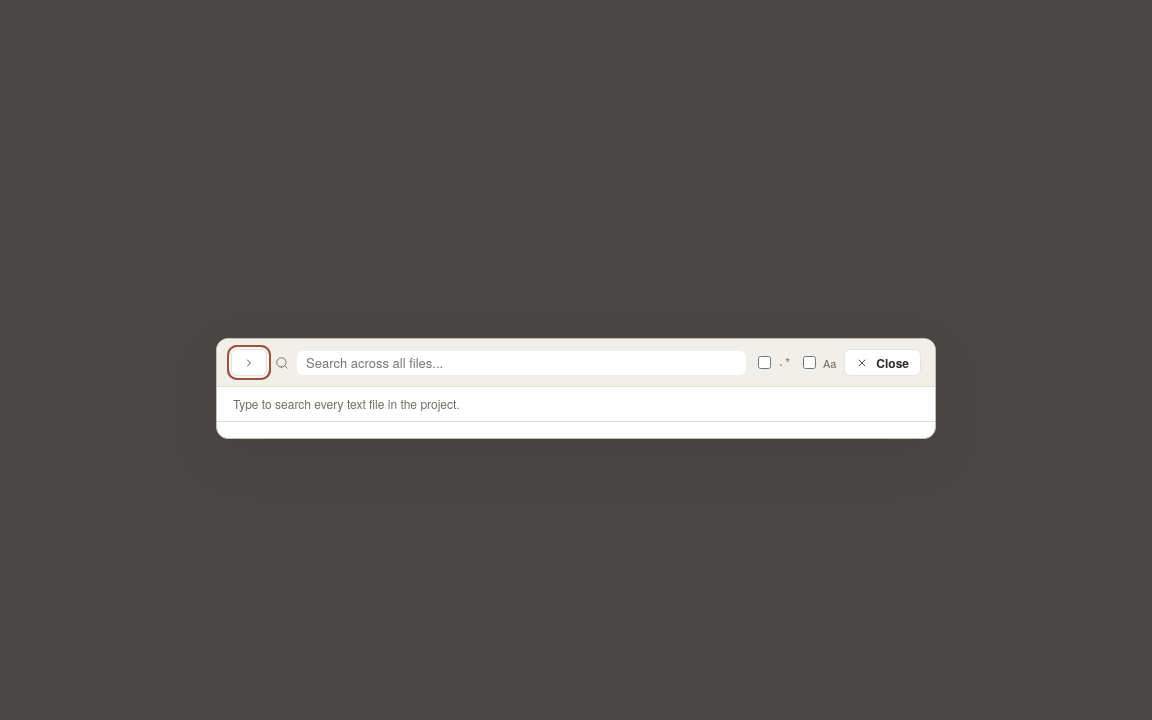
Test case: <FindInFilesPanel /> › can toggle match case and regex mode
Type "world" into the field with placeholder "Search across all files...".
click(521, 363); type("world")  # box [297,351,746,374]
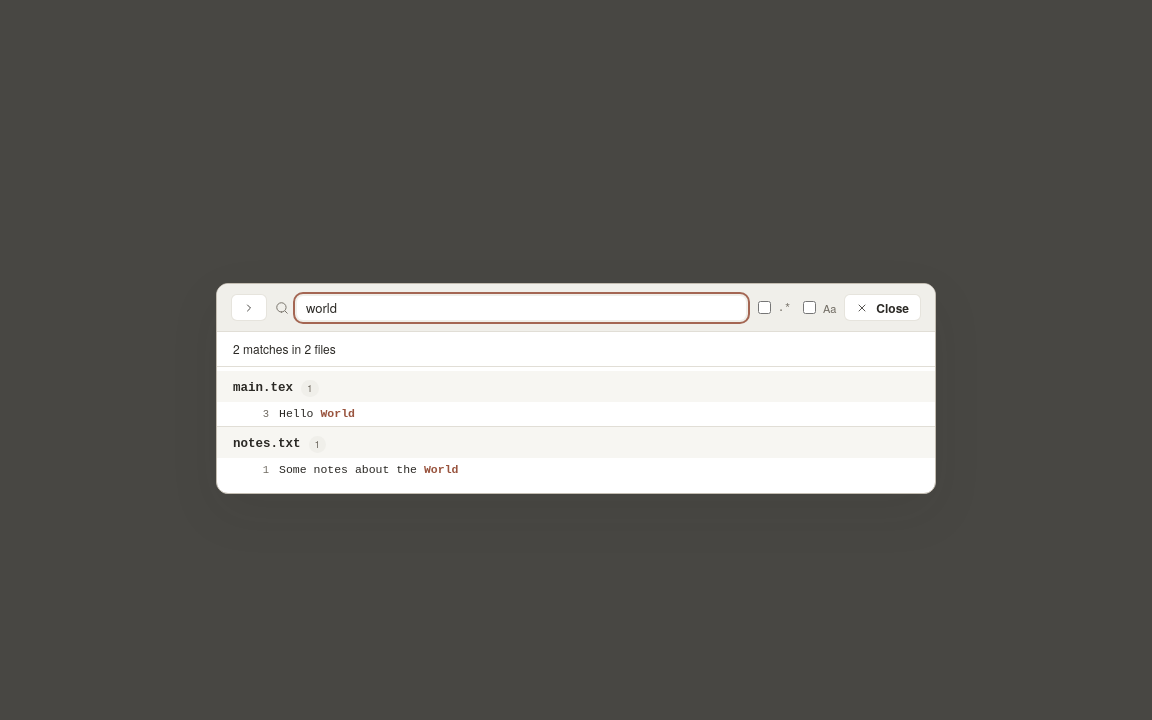
Expected: the message reads "2 matches in 2 files", [217,332,935,367]
// Toggle match case
Click the checkbox named "Match case".
click(809, 308)  # box [803,301,816,314]
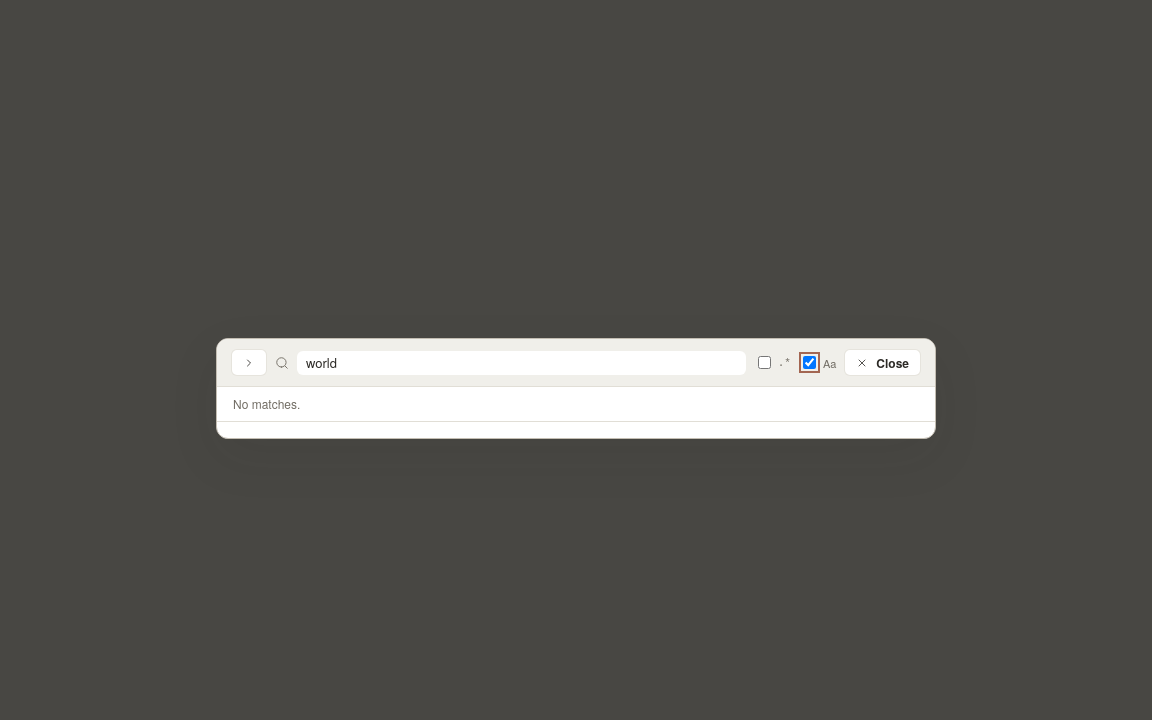
Expected: the text "No matches." is shown, [233,395,300,412]
// Toggle regex
Click the checkbox named "Regex".
click(764, 363)  # box [758,356,771,369]
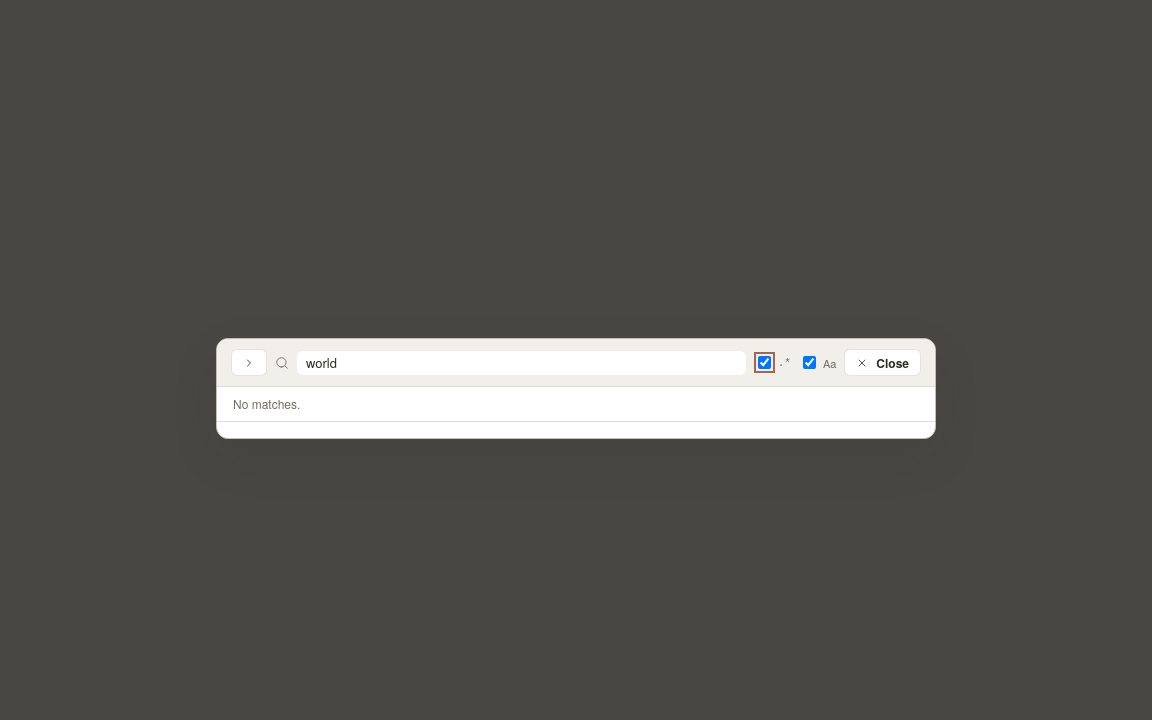
Replace the text in the field with placeholder "Search across all files..." with "W.*d" at (521, 363), box [297,351,746,374]
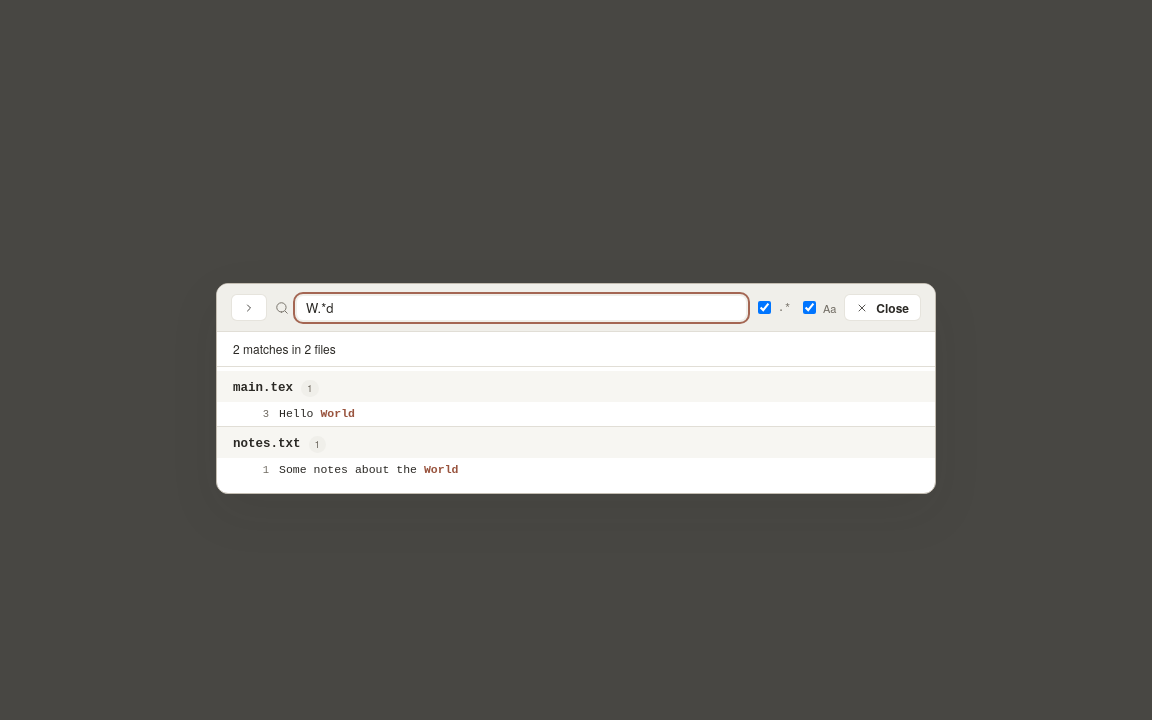
Expected: the message reads "2 matches in 2 files", [217,332,935,367]
